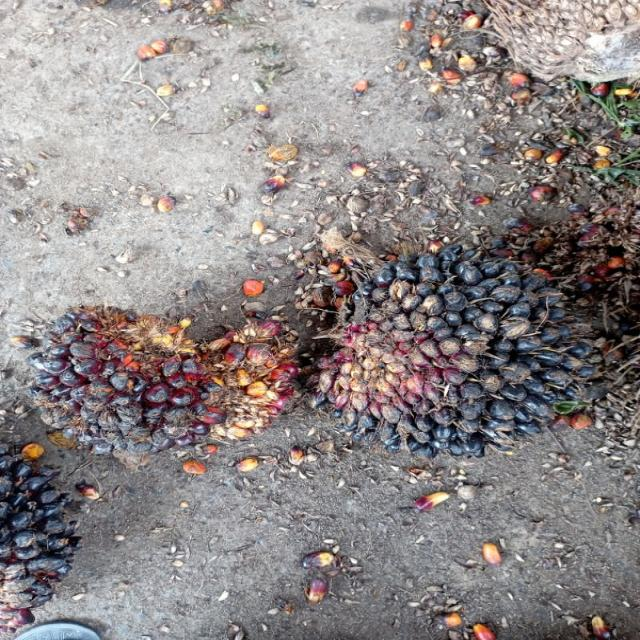fraksi 00: (320, 240, 599, 455)
fraksi 1: (35, 301, 297, 469)
